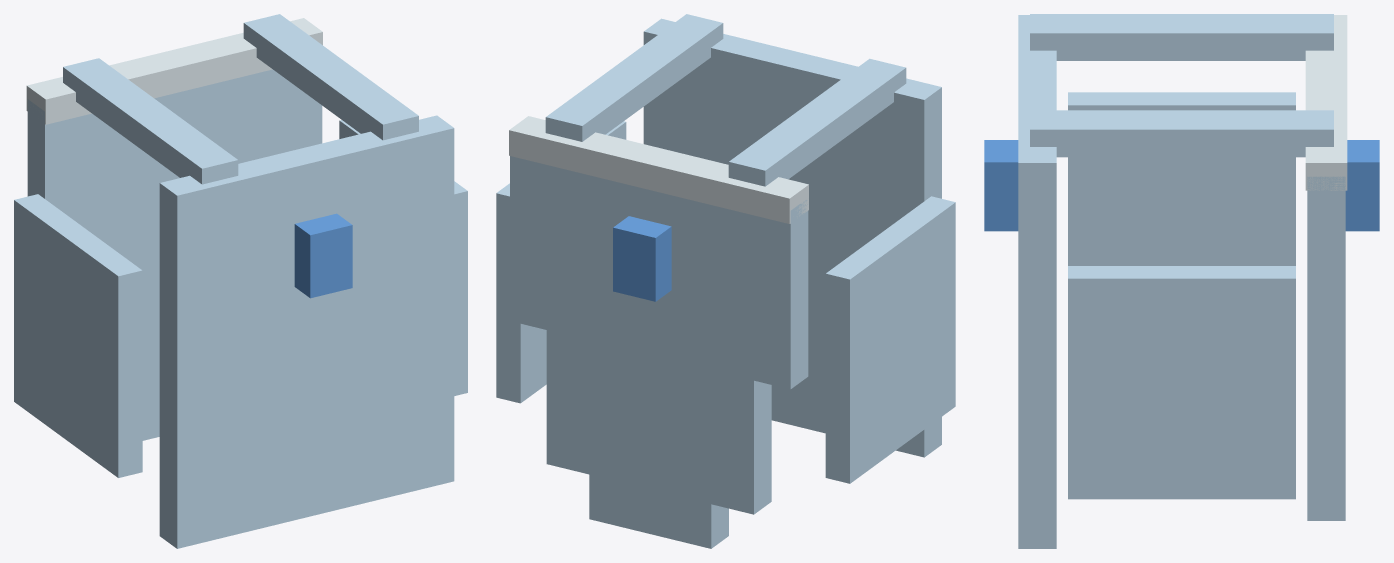
File: gelo_tronco.glb
The picture shows the model from 3 angles, left to right: view 1: azimuth 30°, elevation 25°; view 2: azimuth 150°, elevation 25°; view 3: azimuth 270°, elevation 25°; orthographic projection. The views are drawn at different scales.
Parts seen in each view (by area): view 1: gelo_tronco; view 2: gelo_tronco; view 3: gelo_tronco.
Part boxes in pixels (bbox=[...]): gelo_tronco: bbox=[14, 14, 467, 548]; gelo_tronco: bbox=[496, 14, 955, 548]; gelo_tronco: bbox=[984, 14, 1379, 548].
Bounding box in the file's own units: 0.58 × 0.605 × 0.52.
